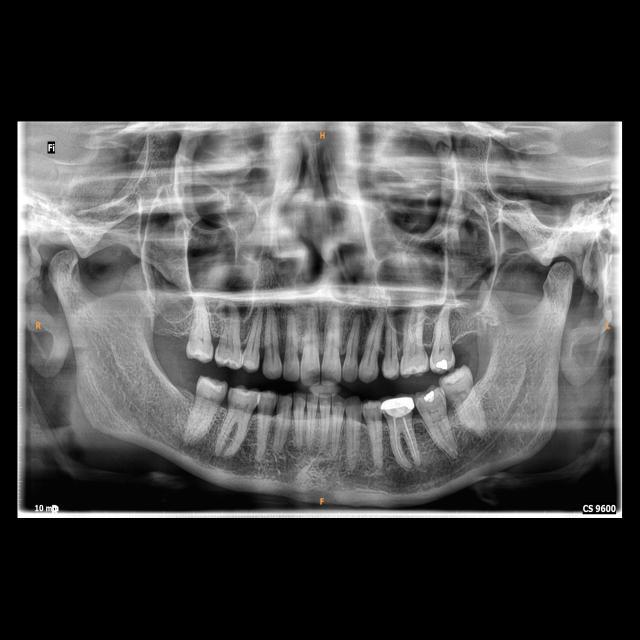dentin-curugu: (306, 366, 323, 384), (322, 367, 336, 385)
dolgu: (431, 353, 448, 373), (423, 390, 437, 407)
kanal-tedavisi: (394, 422, 416, 464)
kaplama: (380, 400, 415, 420)
